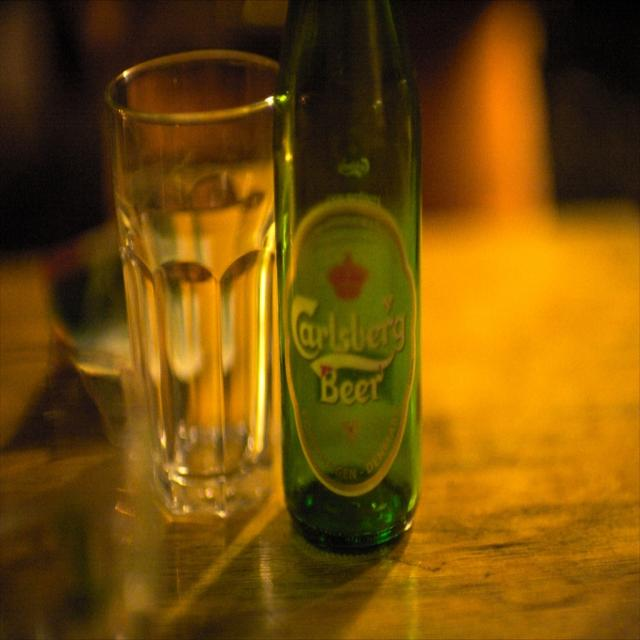carlsberg: (282, 198, 423, 505)
